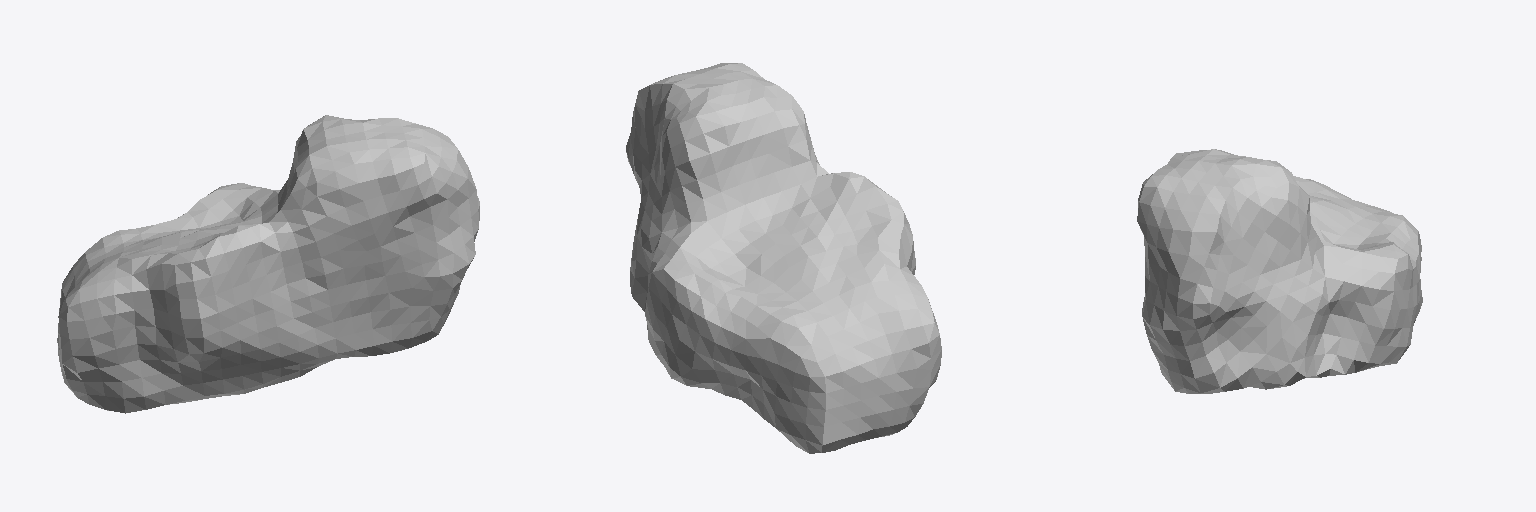
File: mossy-rock-model.obj
3 renders of one model, left to right at view 1: azimuth 30°, elevation 25°; view 2: azimuth 150°, elevation 25°; view 3: azimuth 270°, elevation 25°, orthographic.
Visible parts, largest first — view 1: Volume3; view 2: Volume3; view 3: Volume3.
Boxes of the visible parts, <box> form: Volume3: <box>57,115,479,413</box>; Volume3: <box>626,63,941,453</box>; Volume3: <box>1137,149,1422,393</box>.
Bounding box in the file's own units: 148 × 103 × 102.